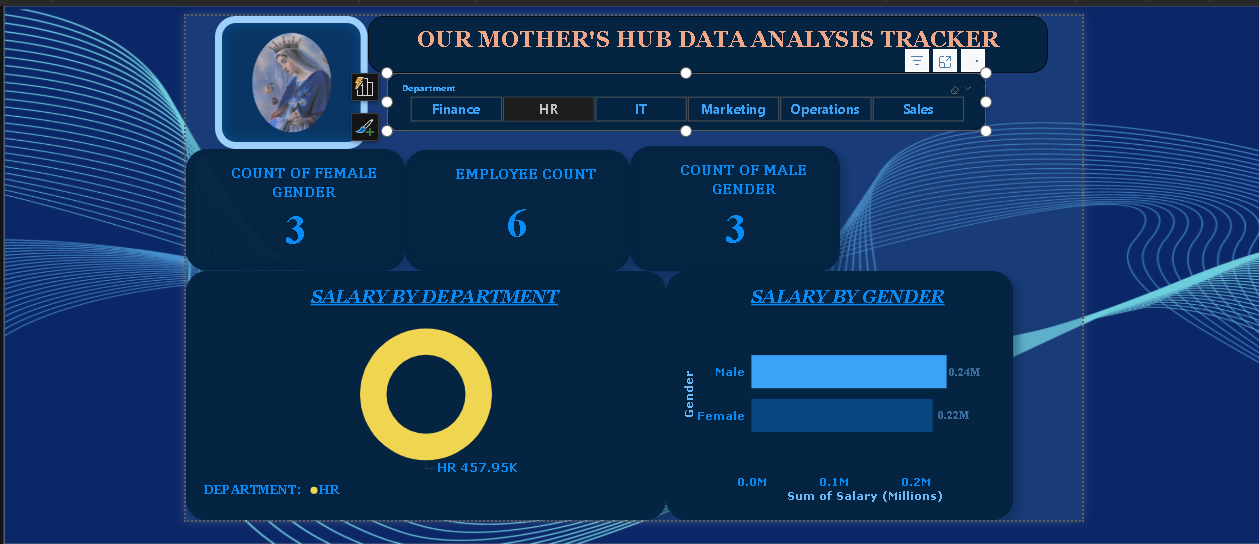

The page's visual inventory and layout, read from the dashboard file:
{"tool":"powerbi","page":{"name":"Page REPORT","canvas":[1280,720],"ordinal":0},"visuals":[{"type":"card","title":"EMPLOYEE COUNT","fields":{"Values":["HR_Employee_Data.Measure 2"]},"box":[312.9,190,321.4,174.3],"z":0},{"type":"card","title":" COUNT OF MALE GENDER","fields":{"Values":["Count(HR_Employee_Data)"]},"box":[634.3,185.7,300,178.6],"z":1000},{"type":"card","title":" COUNT OF FEMALE GENDER","fields":{"Values":["Count(HR_Employee_Data)"]},"box":[0,190,312.9,174.3],"z":2000},{"type":"textbox","box":[260,0,971.4,81.4],"z":3000},{"type":"image","box":[41.7,0,218.3,190],"z":4000},{"type":"donutChart","title":"SALARY BY DEPARTMENT","fields":{"Y":["Sum(HR_Employee_Data.Salary)"],"Category":["HR_Employee_Data.Department"]},"box":[0,364.3,685.7,355.7],"z":5000},{"type":"clusteredBarChart","title":"SALARY BY GENDER","fields":{"Y":["Sum(HR_Employee_Data.Salary)"],"Category":["HR_Employee_Data.Gender"]},"box":[685.7,364.3,495.7,355.7],"z":6000},{"type":"slicer","fields":{"Values":["HR_Employee_Data.Department"]},"box":[287.1,81.4,855.7,82.9],"z":7000}]}

Visuals, with their boxes on the page's 1280x720 design canvas (x1, y1, x2, y2). These are canvas units, not pixel positions in the 1259x544 screenshot, which may show the page scaled, cropped or inside an application window:
"EMPLOYEE COUNT" card: select_region(313, 190, 634, 364)
" COUNT OF MALE GENDER" card: select_region(634, 186, 934, 364)
" COUNT OF FEMALE GENDER" card: select_region(0, 190, 313, 364)
textbox: select_region(260, 0, 1231, 81)
image: select_region(42, 0, 260, 190)
"SALARY BY DEPARTMENT" donutChart: select_region(0, 364, 686, 720)
"SALARY BY GENDER" clusteredBarChart: select_region(686, 364, 1181, 720)
slicer - HR_Employee_Data.Department: select_region(287, 81, 1143, 164)
